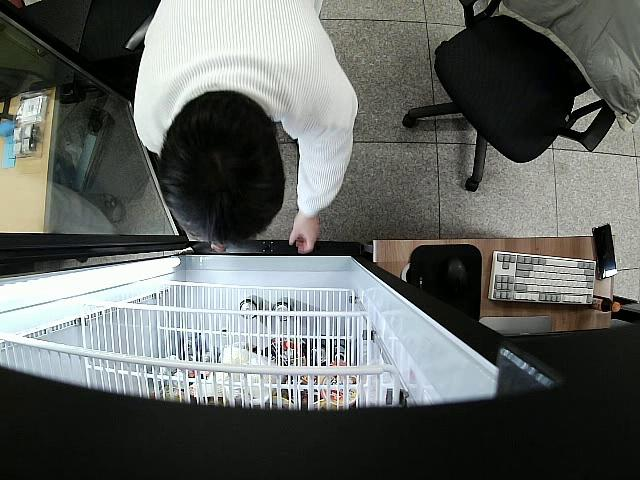00_hand: (288, 214, 319, 255)
